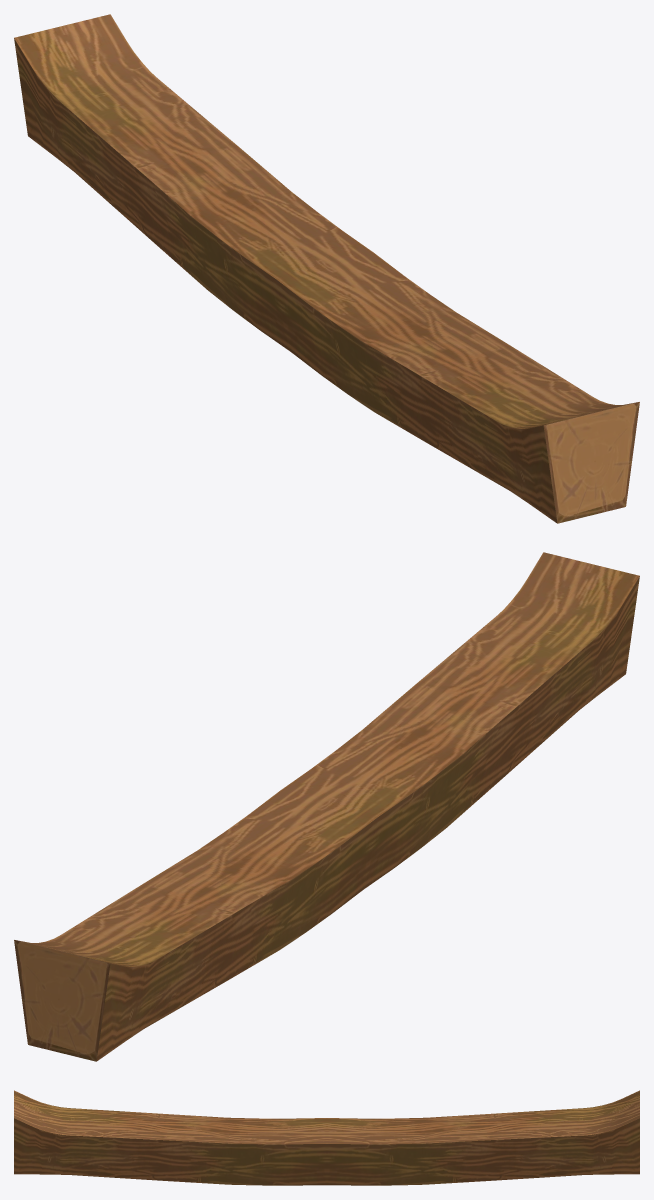
Rendered from Roof_Log.glb.
3 views of the same model, one above another, from view 1: azimuth 30°, elevation 25°; view 2: azimuth 150°, elevation 25°; view 3: azimuth 270°, elevation 25° (orthographic). The views are drawn at different scales.
Parts seen in each view (by area): view 1: Roof_Log; view 2: Roof_Log; view 3: Roof_Log.
Part boxes in pixels (x1=…): Roof_Log: x1=14, y1=14, x2=639, y2=523; Roof_Log: x1=14, y1=552, x2=639, y2=1061; Roof_Log: x1=14, y1=1090, x2=639, y2=1185.
Bounding box in the file's own units: 1.15 × 1.39 × 10.7.
Materials: 1 (1 with a texture image).
